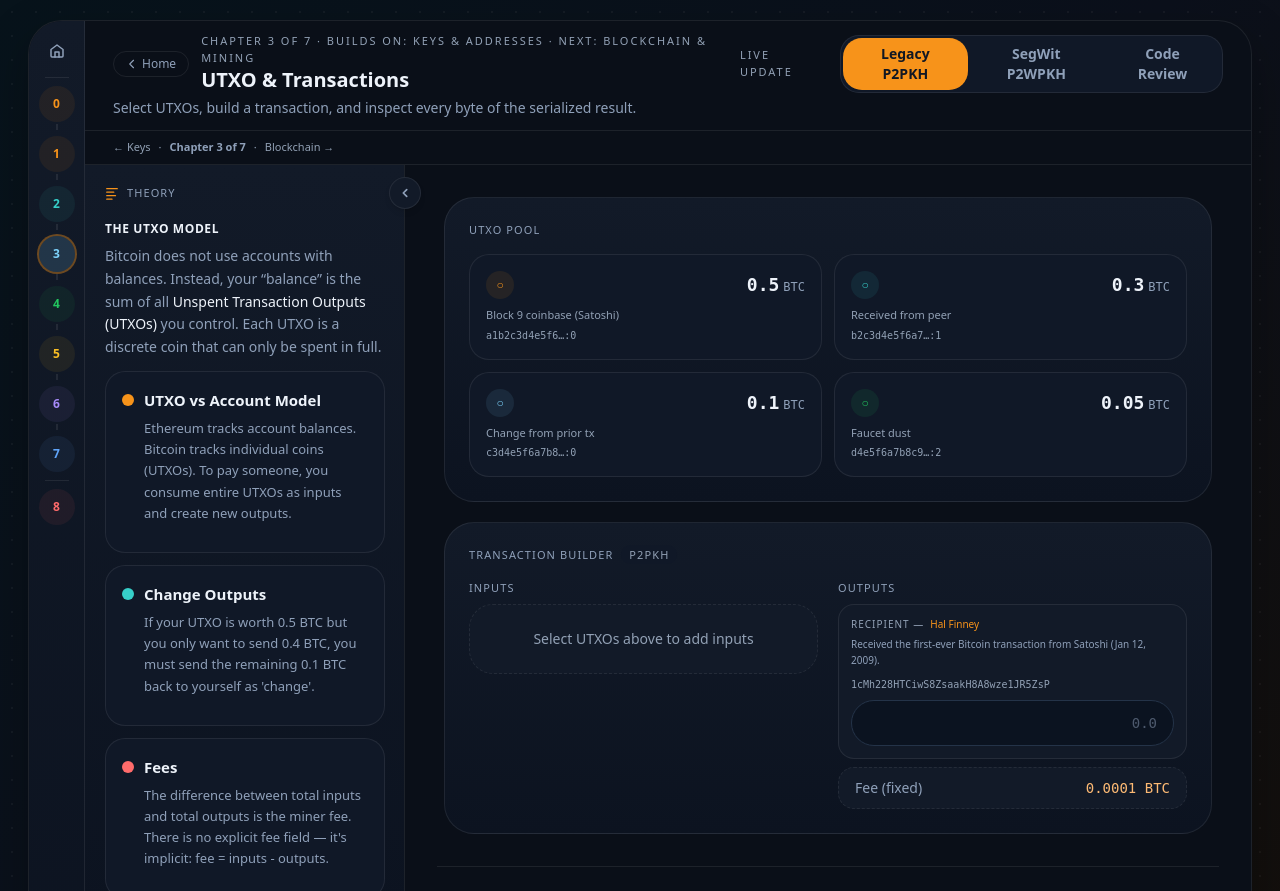
Test: UTXOBuilder › AC: shows validation error for insufficient funds
Click the checkbox named "0.05 BTC" at x=1123, y=402, box [834,372,1187,477]
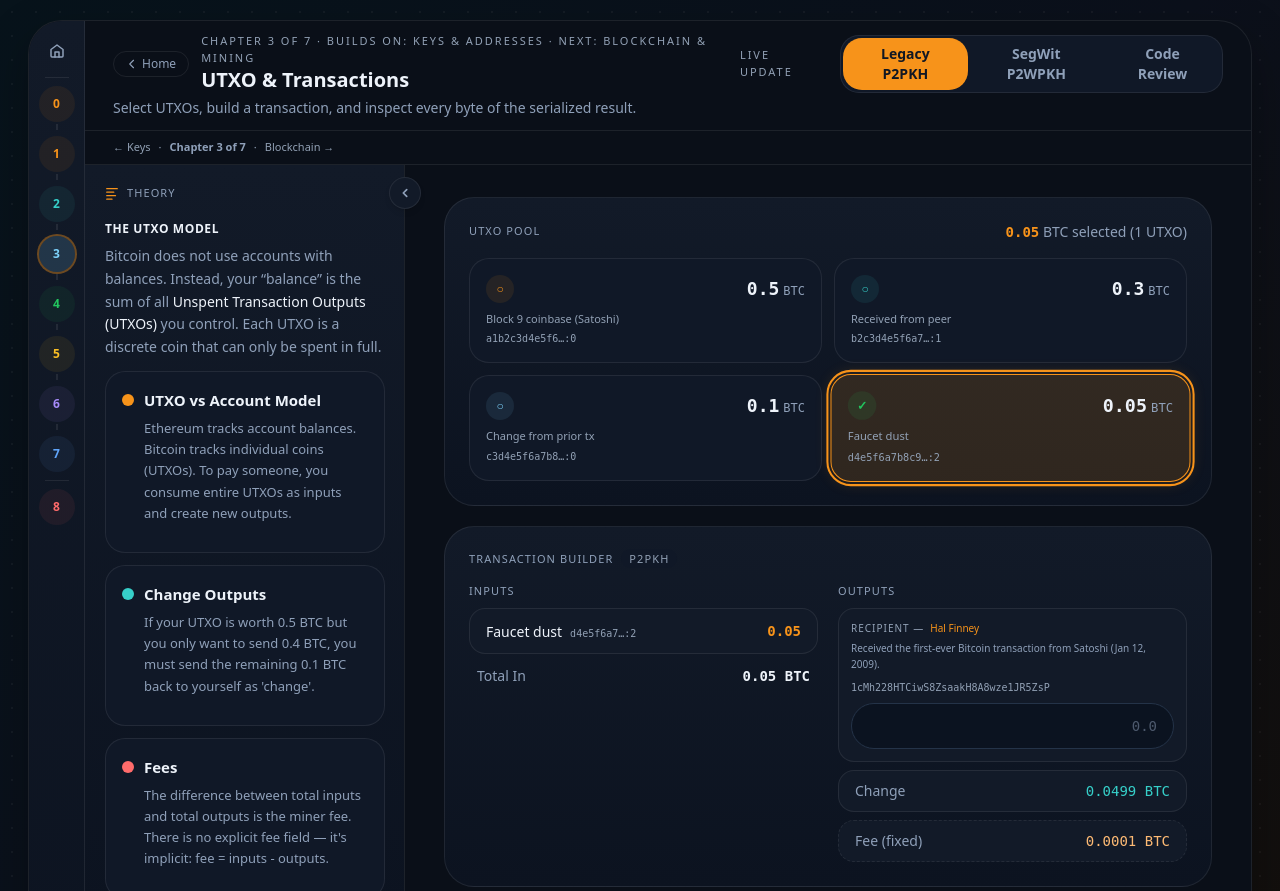
Enter amount larger than the UTXO
Type "0.06" into the field named "recipient amount" at x=1012, y=726, box [851,703,1174,749]
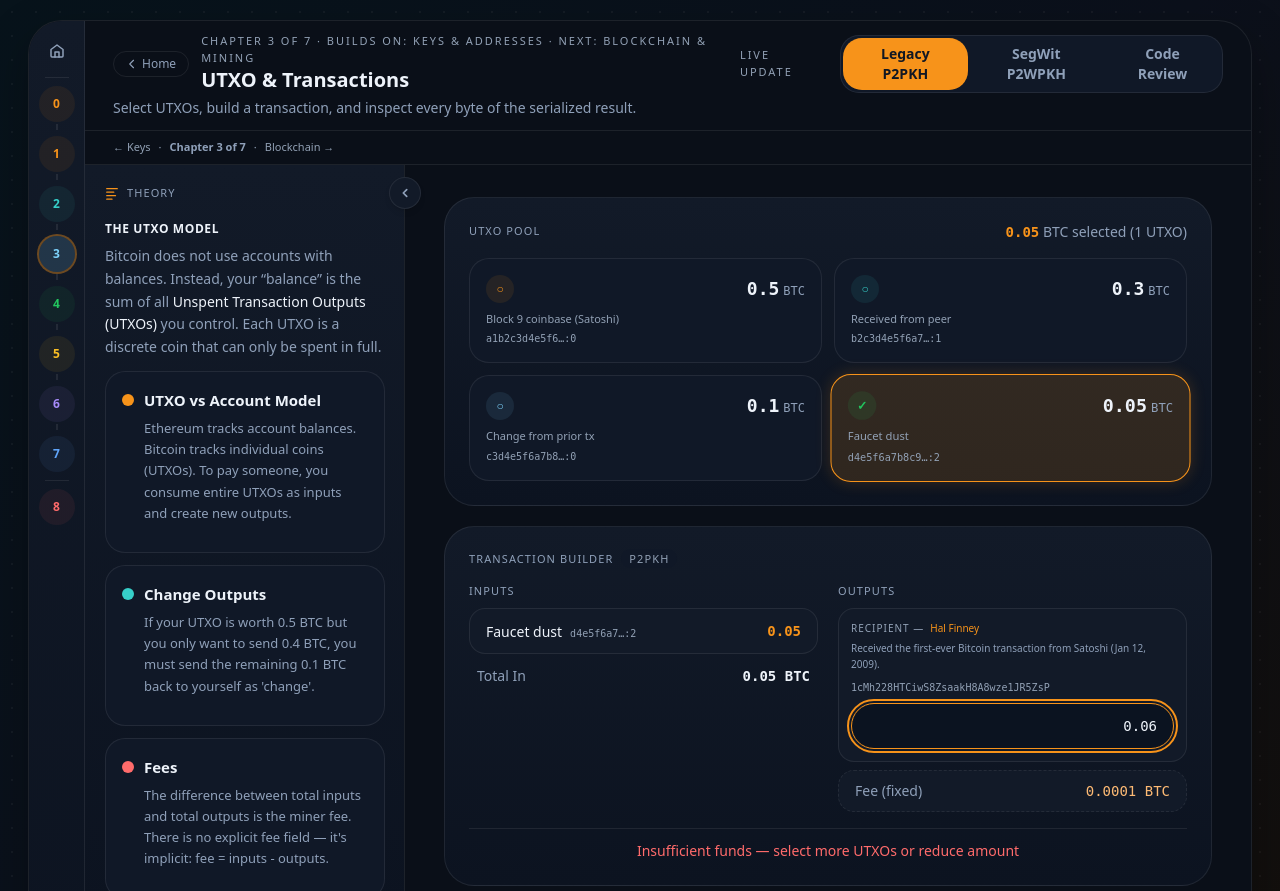
Now the message "Insufficient funds — select more UTXOs or reduce amount" is shown, box [637,841,1019,860]
